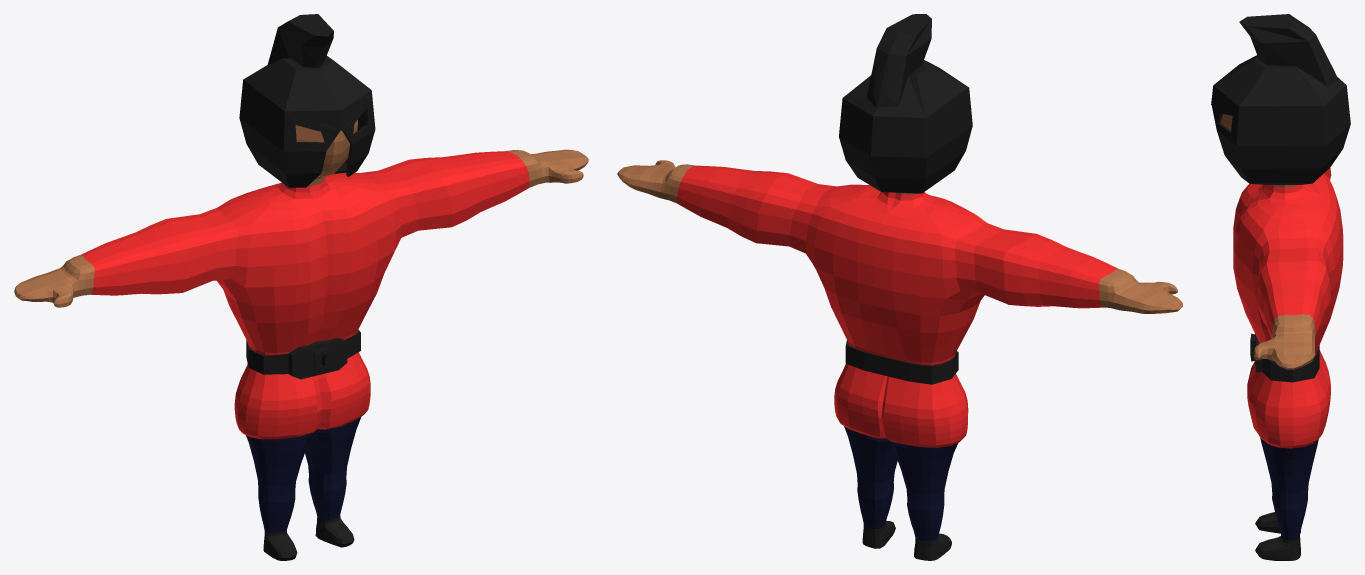
File: Strong.short.arm.swordless.fbx
3 views of the same model, side by side, from view 1: azimuth 30°, elevation 25°; view 2: azimuth 150°, elevation 25°; view 3: azimuth 270°, elevation 25° (orthographic).
Parts seen in each view (by area): view 1: Box001, Box002, Group002; view 2: Box001, Box002, Group002; view 3: Box001, Box002, Group002.
Boxes of the visible parts, left/top/right/bottom form: Box001: left=81, top=151, right=529, bottom=439; Box002: left=239, top=14, right=375, bottom=379; Group002: left=14, top=119, right=588, bottom=560; Box001: left=677, top=165, right=1117, bottom=447; Box002: left=839, top=14, right=972, bottom=384; Group002: left=617, top=160, right=1182, bottom=560; Box001: left=1233, top=168, right=1343, bottom=448; Box002: left=1211, top=14, right=1350, bottom=382; Group002: left=1220, top=114, right=1318, bottom=560.
Size of the model in its own units: 216 by 191 by 46.35.
